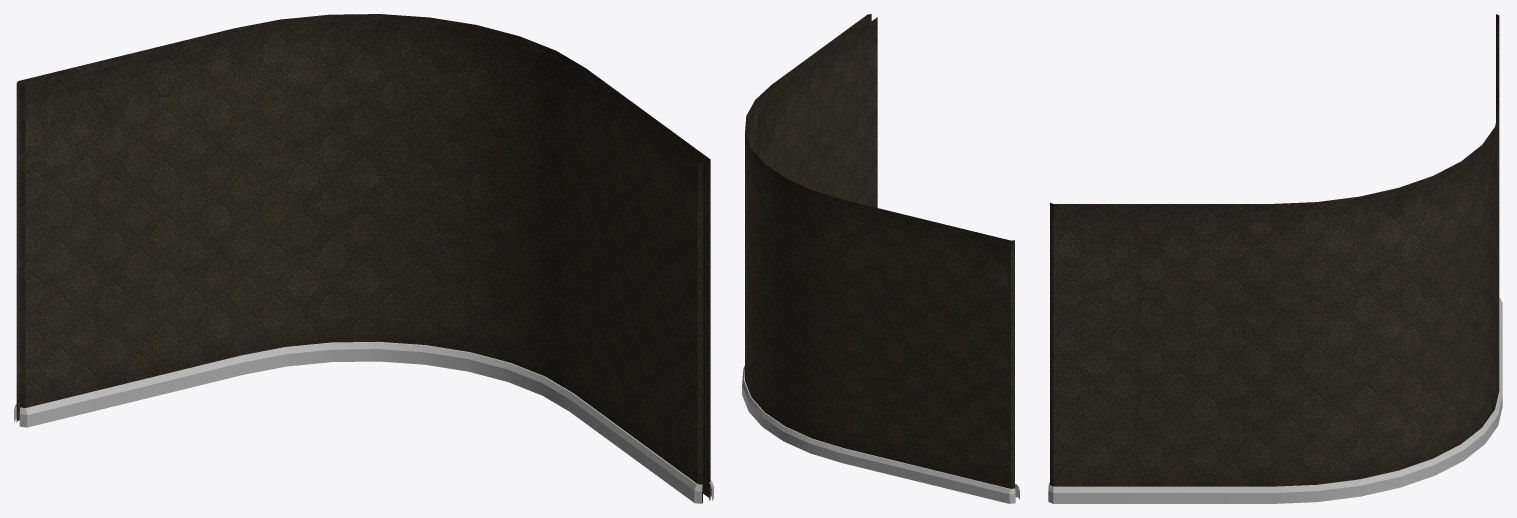
The model's file is wall_1_2_rounded_corner_1.fbx.
3 views of the same model, side by side, from view 1: azimuth 30°, elevation 25°; view 2: azimuth 150°, elevation 25°; view 3: azimuth 270°, elevation 25° (orthographic). The views are drawn at different scales.
Visible parts, largest first — view 1: wall_1_2_rounded_corner_1; view 2: wall_1_2_rounded_corner_1; view 3: wall_1_2_rounded_corner_1.
Boxes of the visible parts, x1,y1,x2,y2 form: wall_1_2_rounded_corner_1: (14, 14, 713, 503); wall_1_2_rounded_corner_1: (742, 14, 1019, 503); wall_1_2_rounded_corner_1: (1048, 14, 1502, 503).
Size of the model in its own units: 4.14 by 4.14 by 3.
